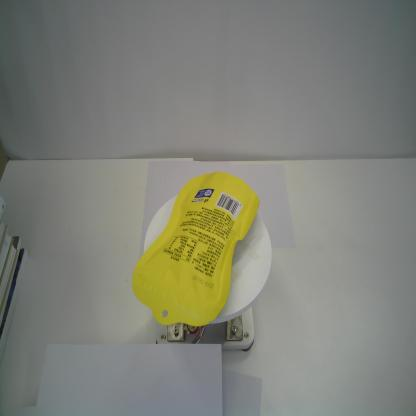Dried Fruit: (129, 170, 261, 330)
